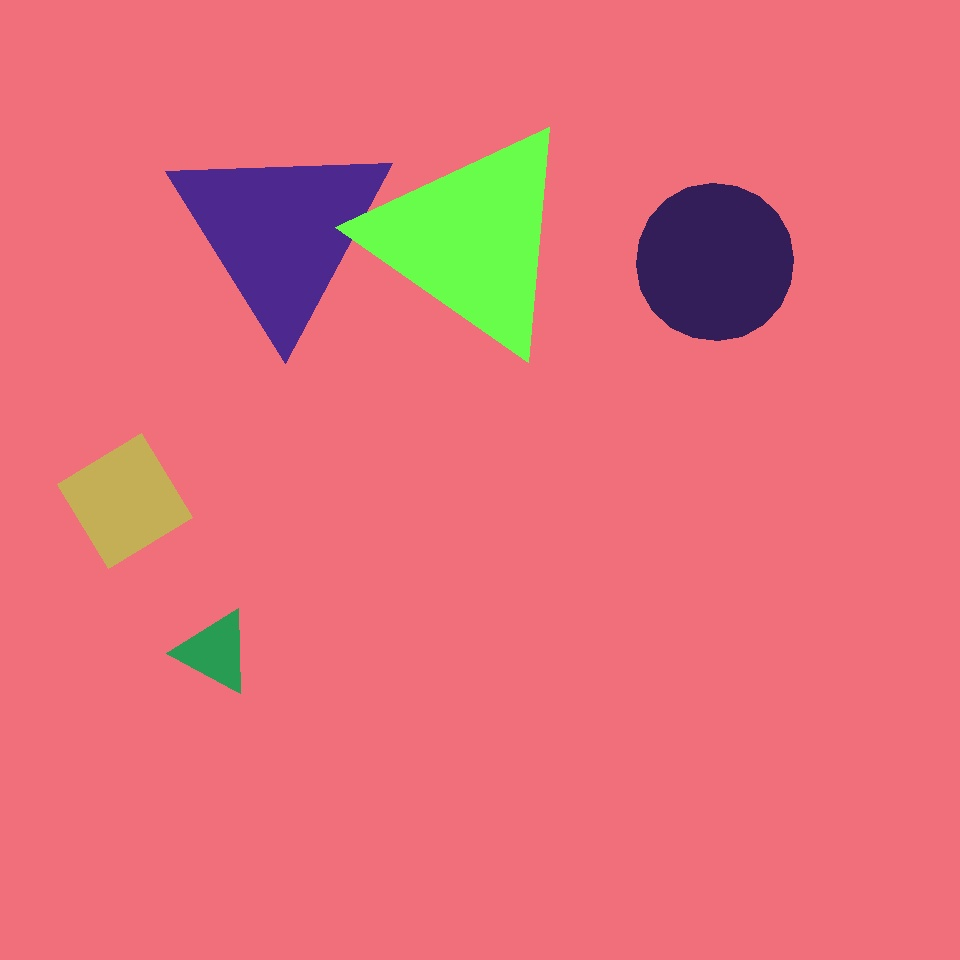circle: (364, 122, 578, 356), (168, 133, 394, 333), (178, 610, 252, 695)
square: (58, 434, 192, 568)
triangle: (636, 183, 794, 340)
